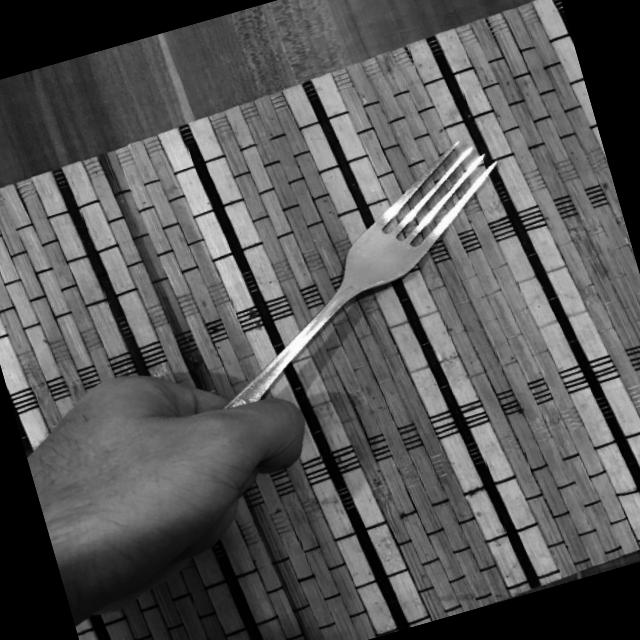fork: (112, 130, 552, 450)
